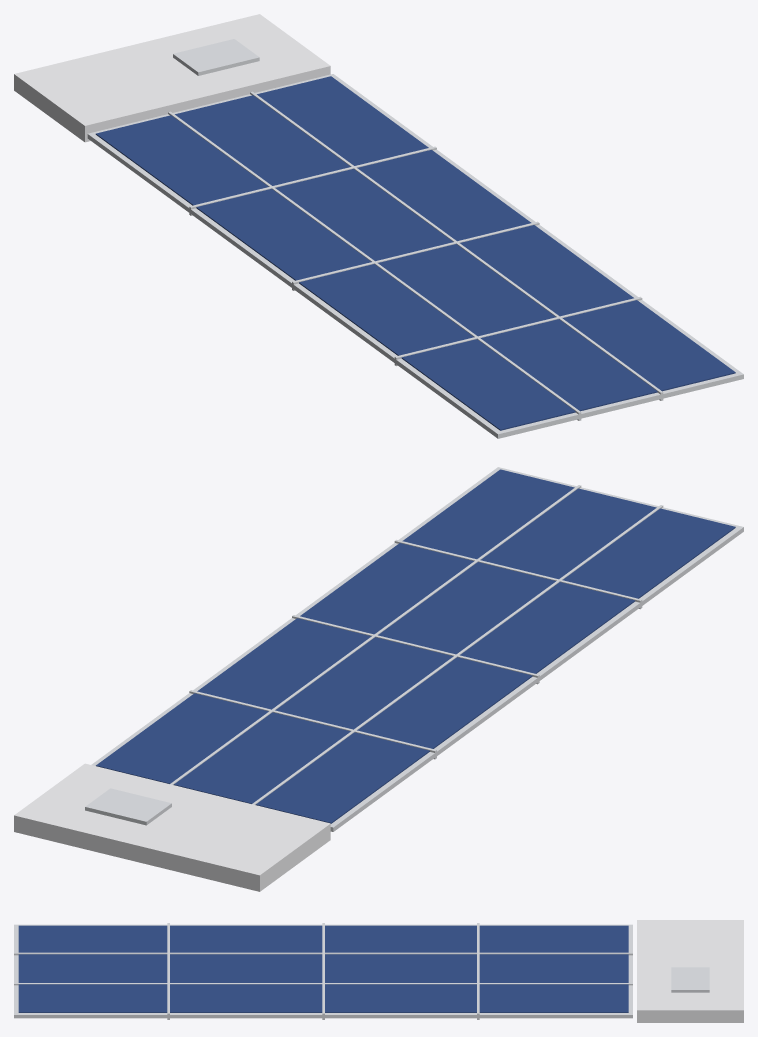
File: starlink.glb
The picture shows the model from 3 angles, top to bottom: view 1: azimuth 30°, elevation 25°; view 2: azimuth 150°, elevation 25°; view 3: azimuth 270°, elevation 25°; orthographic projection. The views are drawn at different scales.
Size of the model in its own units: 2.8 by 0.275 by 9.55.
